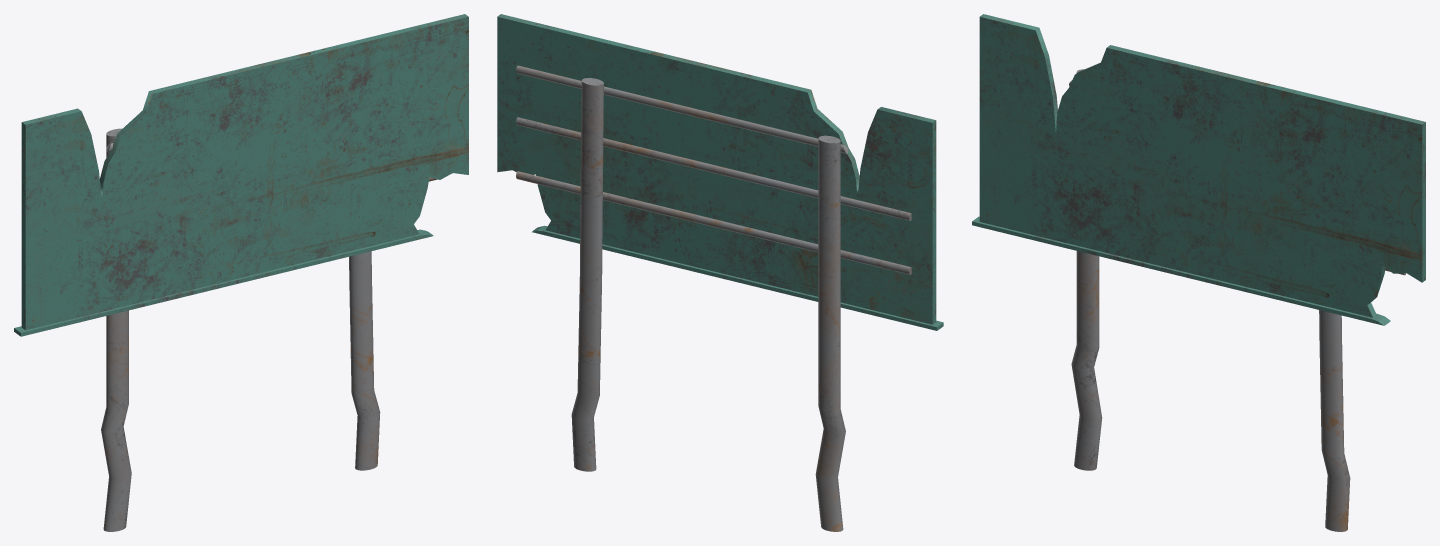
Rendered from rat billboard textured.fbx.
The picture shows the model from 3 angles, left to right: view 1: azimuth 30°, elevation 25°; view 2: azimuth 150°, elevation 25°; view 3: azimuth 330°, elevation 25°; orthographic projection.
Visible parts, largest first — view 1: billboard_rat, bilboard_posts; view 2: billboard_rat, bilboard_posts; view 3: billboard_rat, bilboard_posts.
Boxes of the visible parts, <box> form: billboard_rat: <box>14,14,468,336</box>; bilboard_posts: <box>101,128,437,531</box>; billboard_rat: <box>497,14,943,330</box>; bilboard_posts: <box>516,65,911,531</box>; billboard_rat: <box>972,14,1425,325</box>; bilboard_posts: <box>1069,69,1406,531</box>.
Size of the model in its own units: 6.94 by 6.39 by 0.3697.
